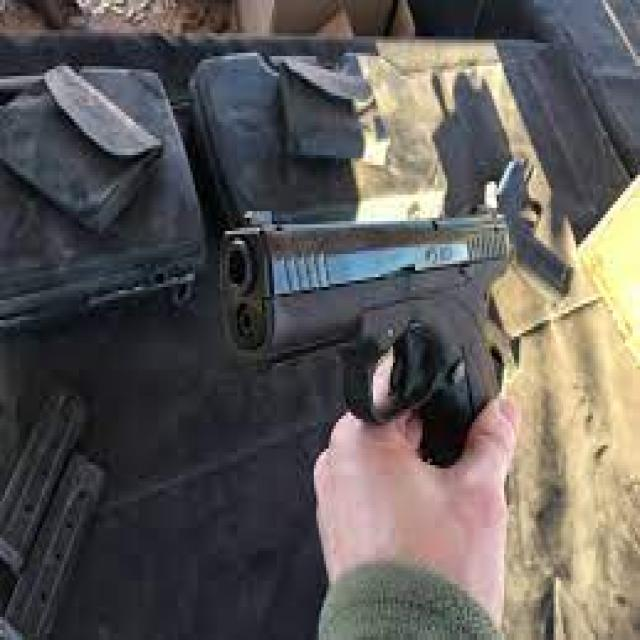Gun: (230, 150, 566, 516)
